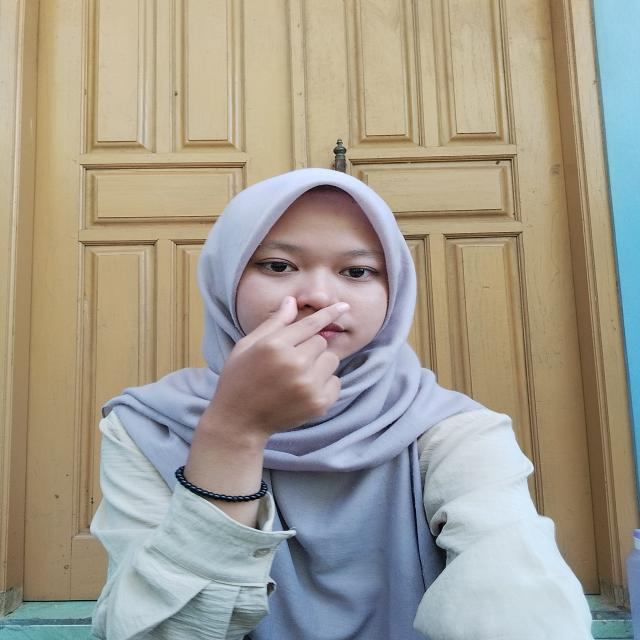bau: (222, 281, 366, 433)
